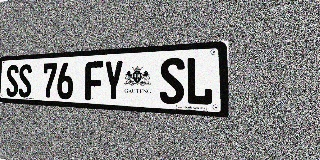6: (57, 62, 73, 100)
7: (42, 63, 57, 99)
F: (85, 61, 103, 101)
L: (185, 56, 213, 106)
S: (160, 57, 185, 105), (19, 64, 32, 98), (6, 65, 18, 97)
Y: (104, 60, 123, 102)
